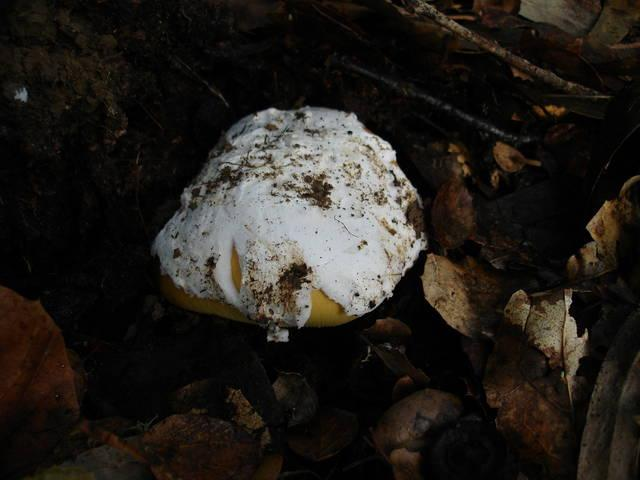edible_mushroom: (149, 104, 429, 342)
